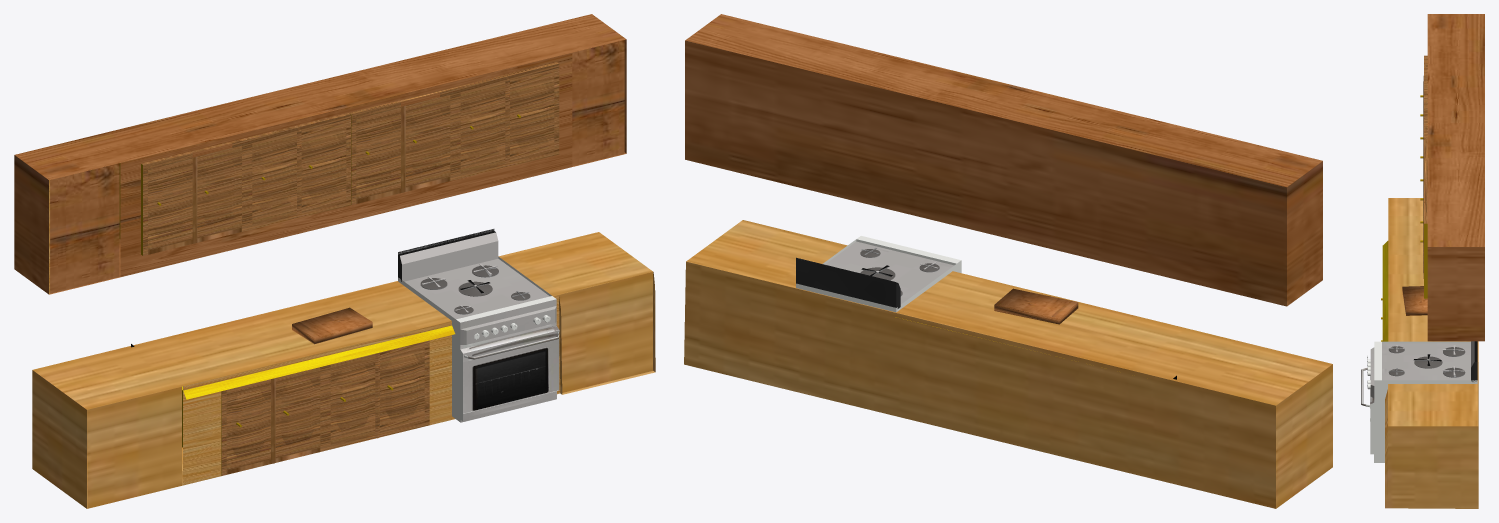
The model's file is Kitchen2.obj.
3 views of the same model, side by side, from view 1: azimuth 30°, elevation 25°; view 2: azimuth 150°, elevation 25°; view 3: azimuth 270°, elevation 25° (orthographic). The views are drawn at different scales.
Visible parts, largest first — view 1: kitchen, Object003, Object002, Object001, Object004; view 2: kitchen; view 3: kitchen.
Part boxes in pixels (x1,y1,x2,y2): kitchen: (14,14,655,508); Object003: (87,387,181,508); Object002: (559,272,652,392); Object001: (49,163,119,293); Object004: (572,40,624,166); kitchen: (684,14,1332,508); kitchen: (1361,14,1484,508).
Size of the model in its own units: 61.5 by 31.78 by 13.71.
7 materials, 7 textured.
